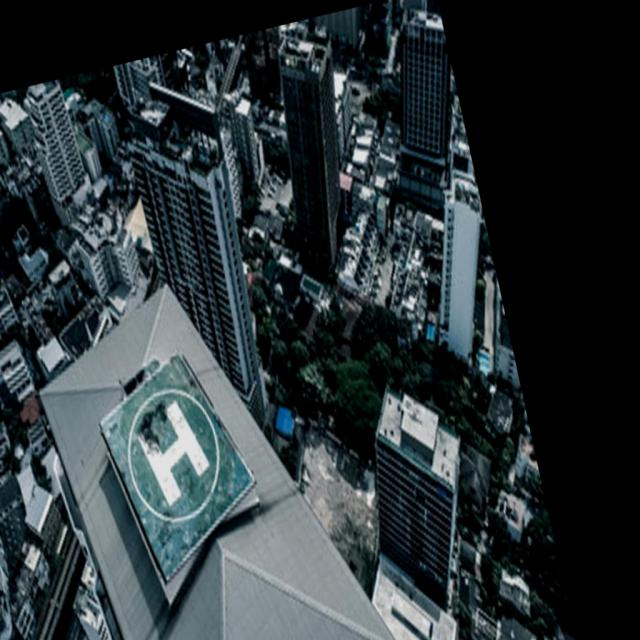helipad: (124, 384, 224, 526)
